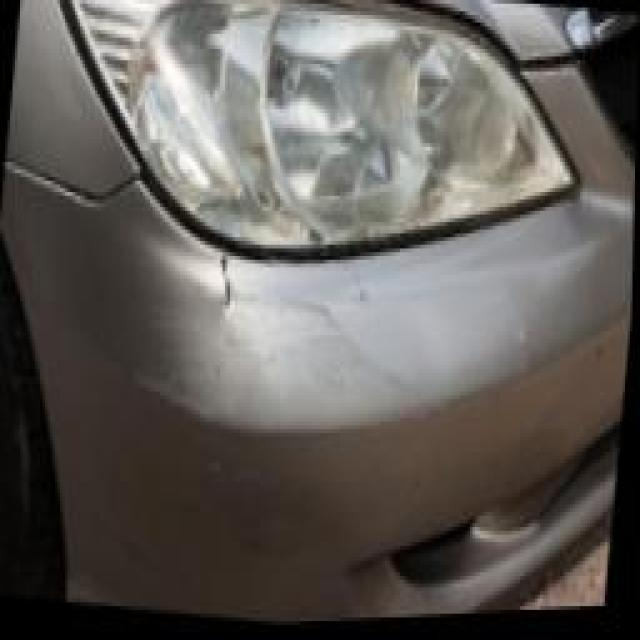Bumper: (110, 216, 422, 506)
